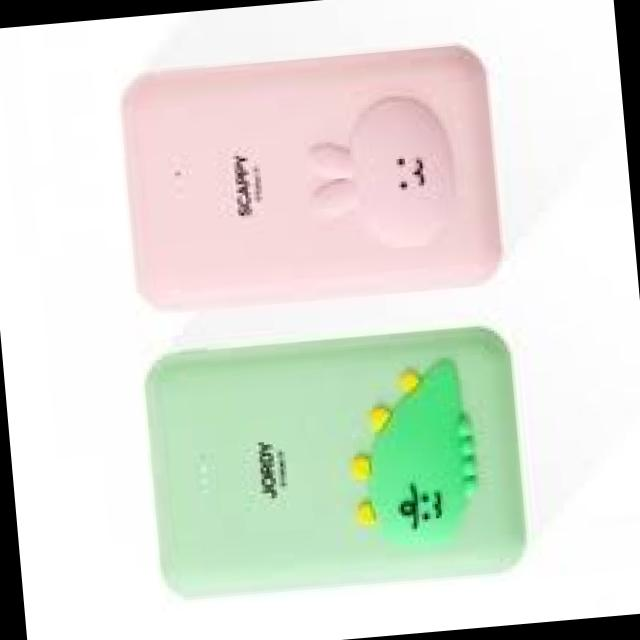portable-charger: (138, 314, 533, 600), (110, 36, 510, 314)
